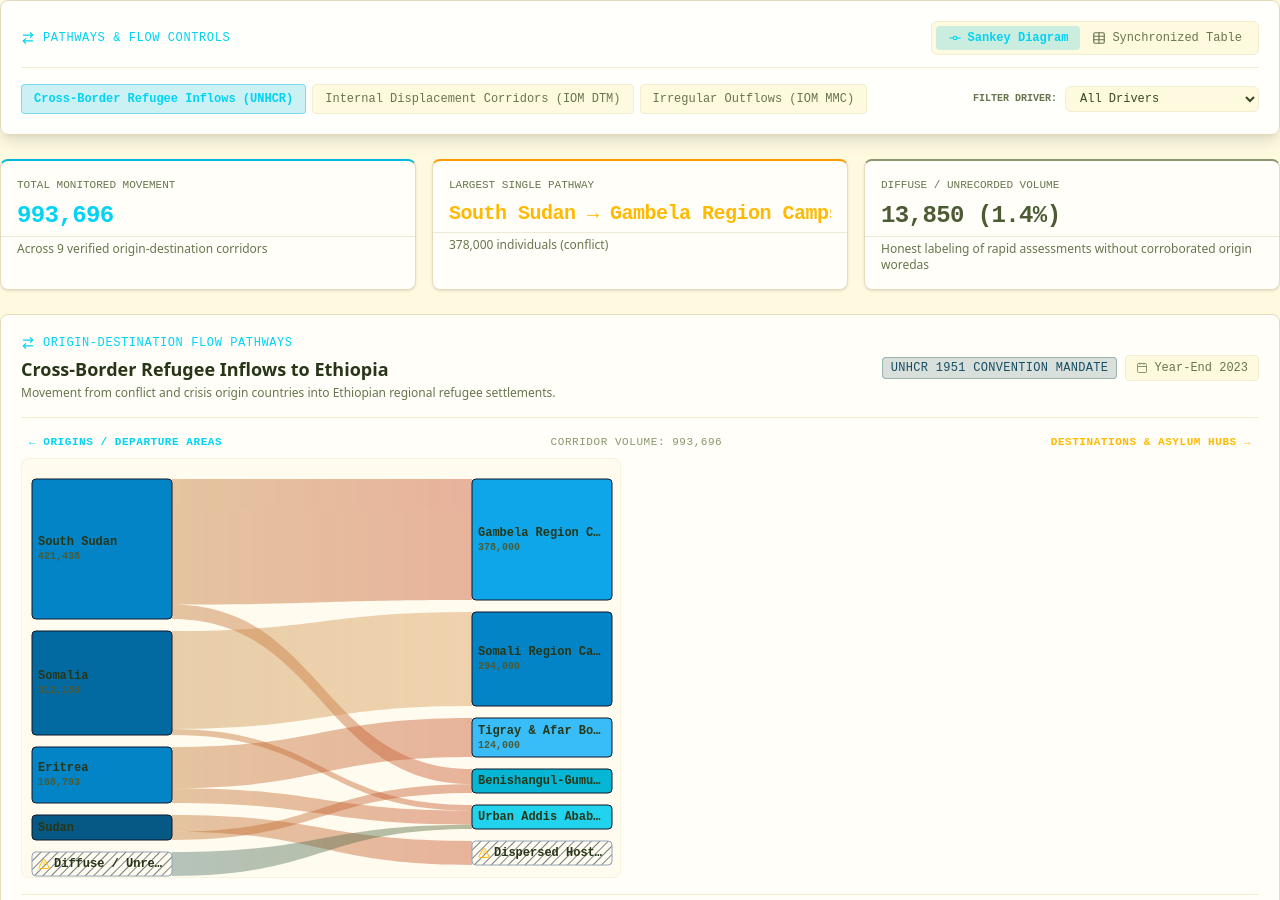
it: FlowExplorerView & Cross-Borders Integration › interactively switches datasets and toggles between Sankey and Table views
The width and height of the screenshot is (1280, 900).
Check: the heading "Cross-Border Refugee Inflows to Ethiopia" is shown, box top-left (21, 356), bottom-right (388, 380)
Check: the text "Across 9 verified origin-destination corridors" is shown, box top-left (17, 240), bottom-right (268, 256)
Click the button "Internal Displacement Corridors (IOM DTM)": point(473, 99) top-left (312, 84), bottom-right (634, 114)
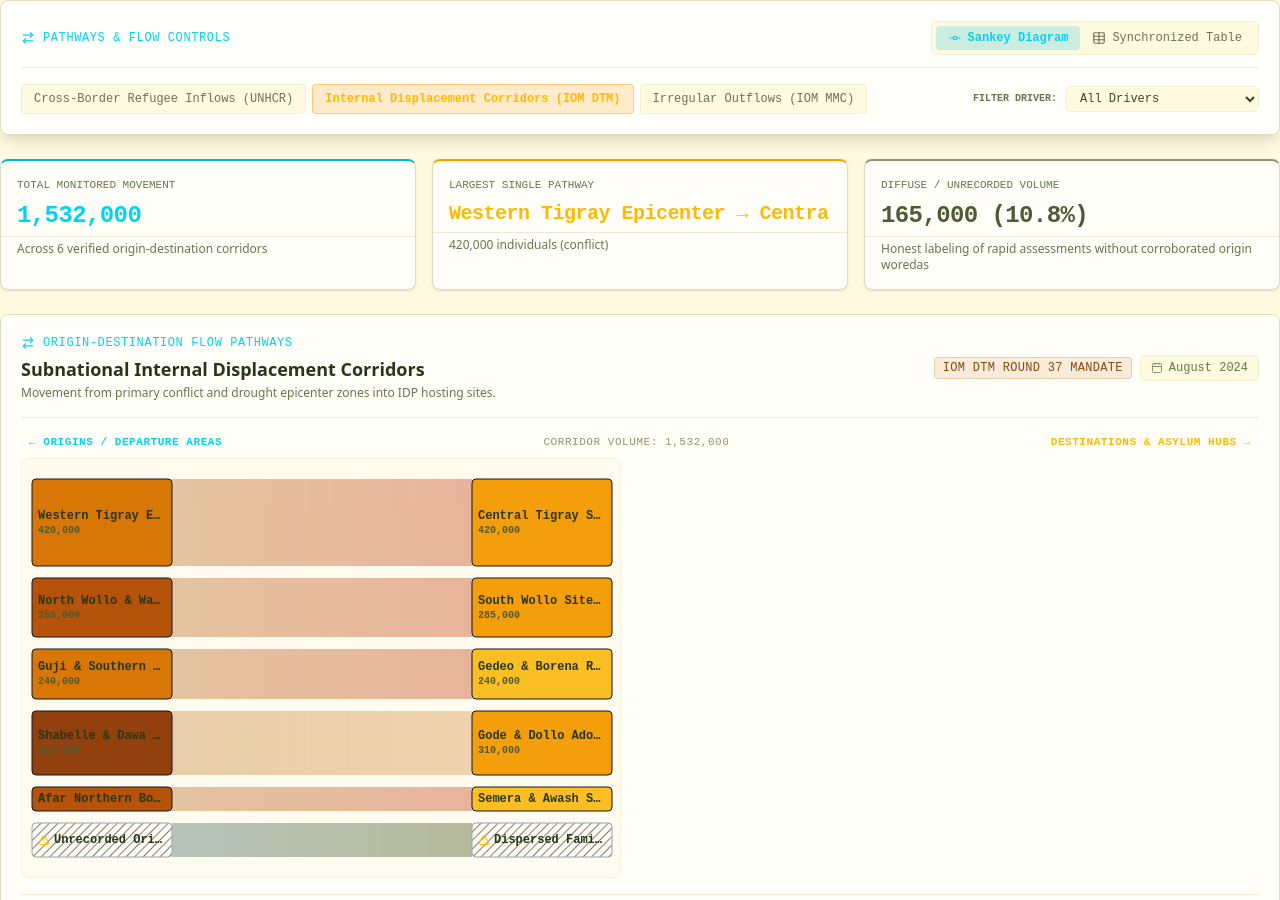
Check: the heading "Subnational Internal Displacement Corridors" is shown, box top-left (21, 354), bottom-right (496, 382)
Check: the text "IOM DTM Round 37 Mandate" is shown, box top-left (934, 356), bottom-right (1132, 378)
Click the button "Irregular Outflows (IOM MMC)": point(753, 99) top-left (640, 84), bottom-right (867, 114)
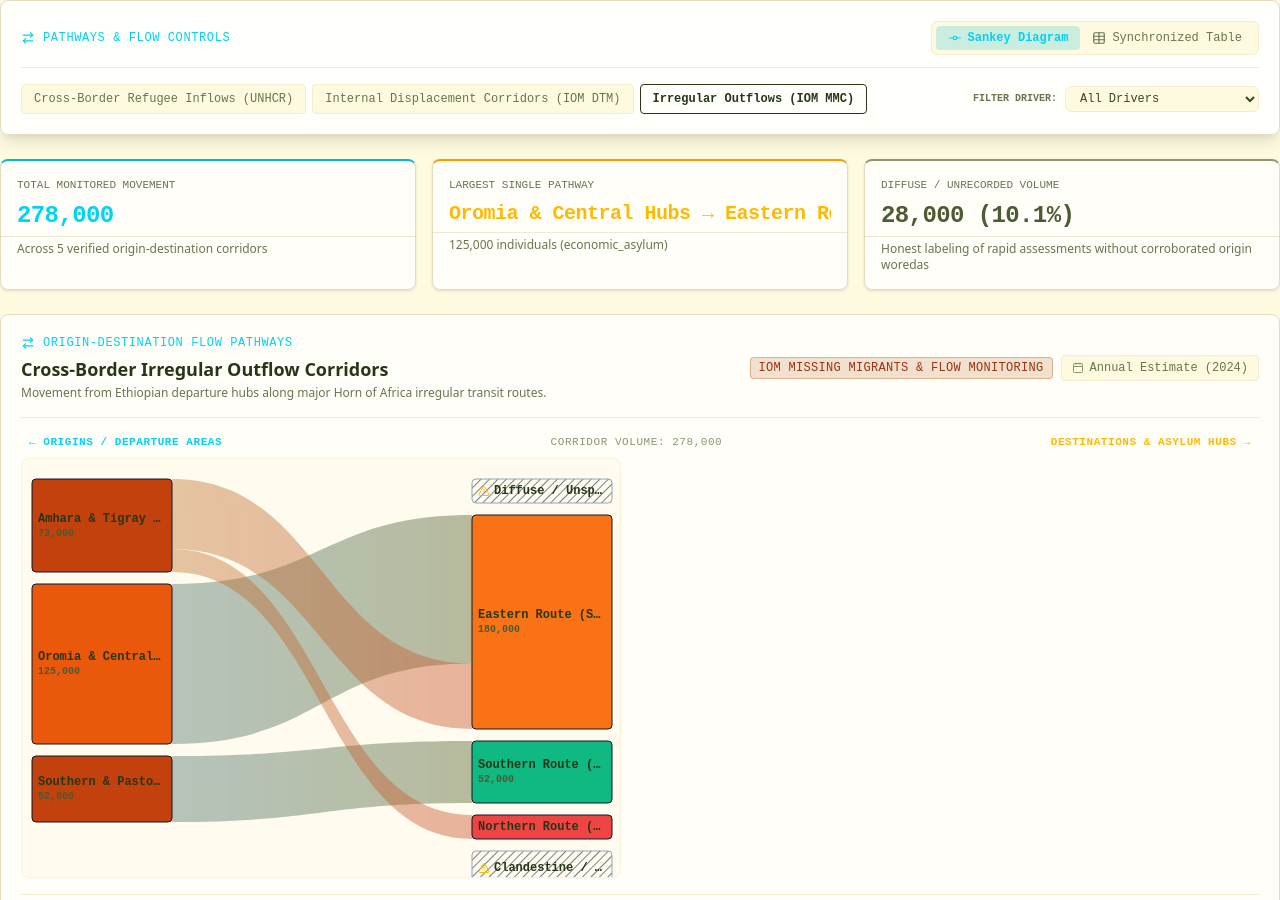
Check: the heading "Cross-Border Irregular Outflow Corridors" is shown, box top-left (21, 356), bottom-right (388, 380)
Check: the text "IOM Missing Migrants & Flow Monitoring" is shown, box top-left (750, 356), bottom-right (1052, 378)
Note: Switch view mode to Synchronized Table
Click the button "Synchronized Table": point(1167, 38) top-left (1080, 26), bottom-right (1254, 50)
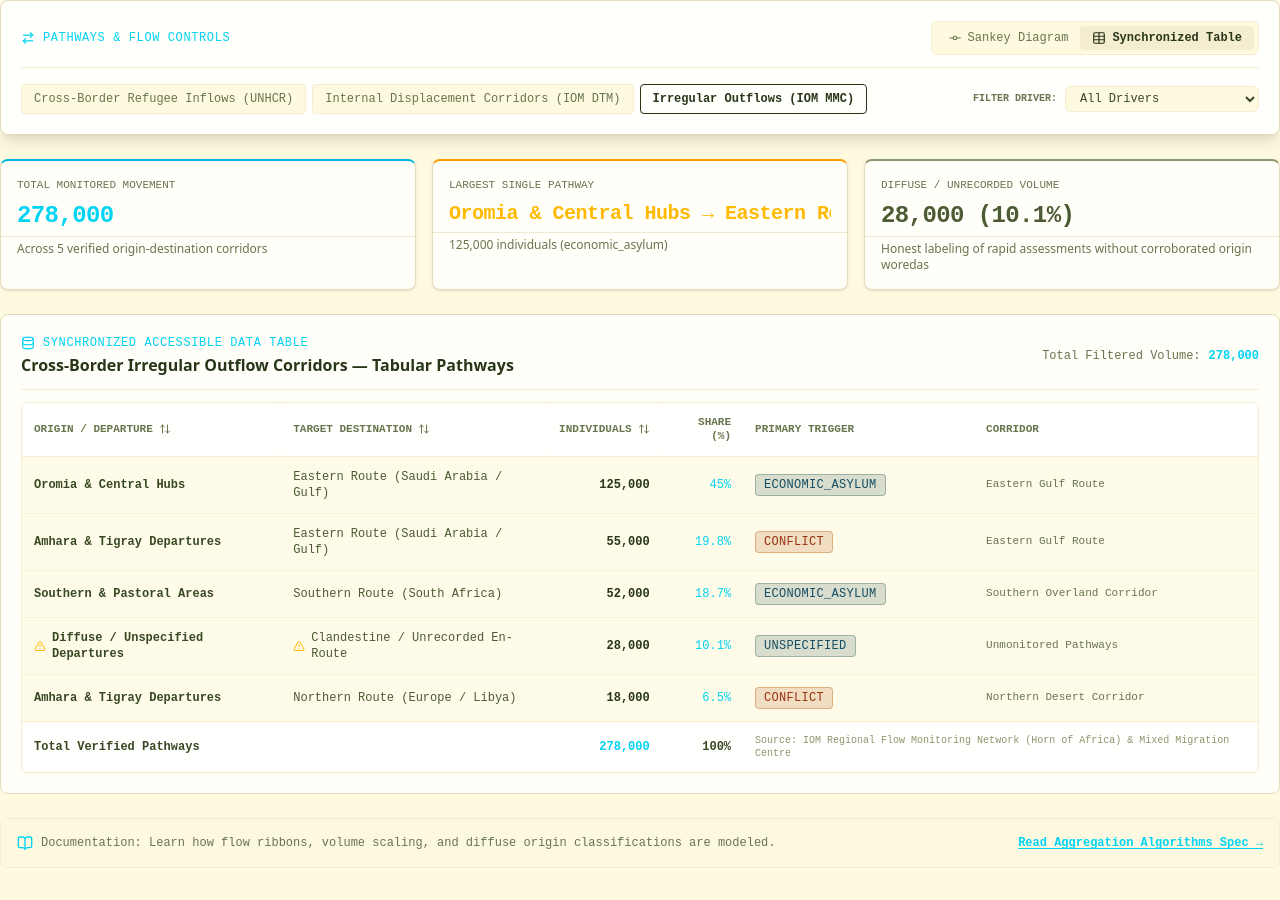
Check: the heading "Cross-Border Irregular Outflow Corridors — Tabular Pathways" is shown, box top-left (21, 352), bottom-right (514, 376)
Check: the text "Total Verified Pathways" is shown, box top-left (22, 721), bottom-right (547, 772)
Note: Switch view mode back to Sankey
Click the button "Sankey Diagram": point(1008, 38) top-left (936, 26), bottom-right (1080, 50)
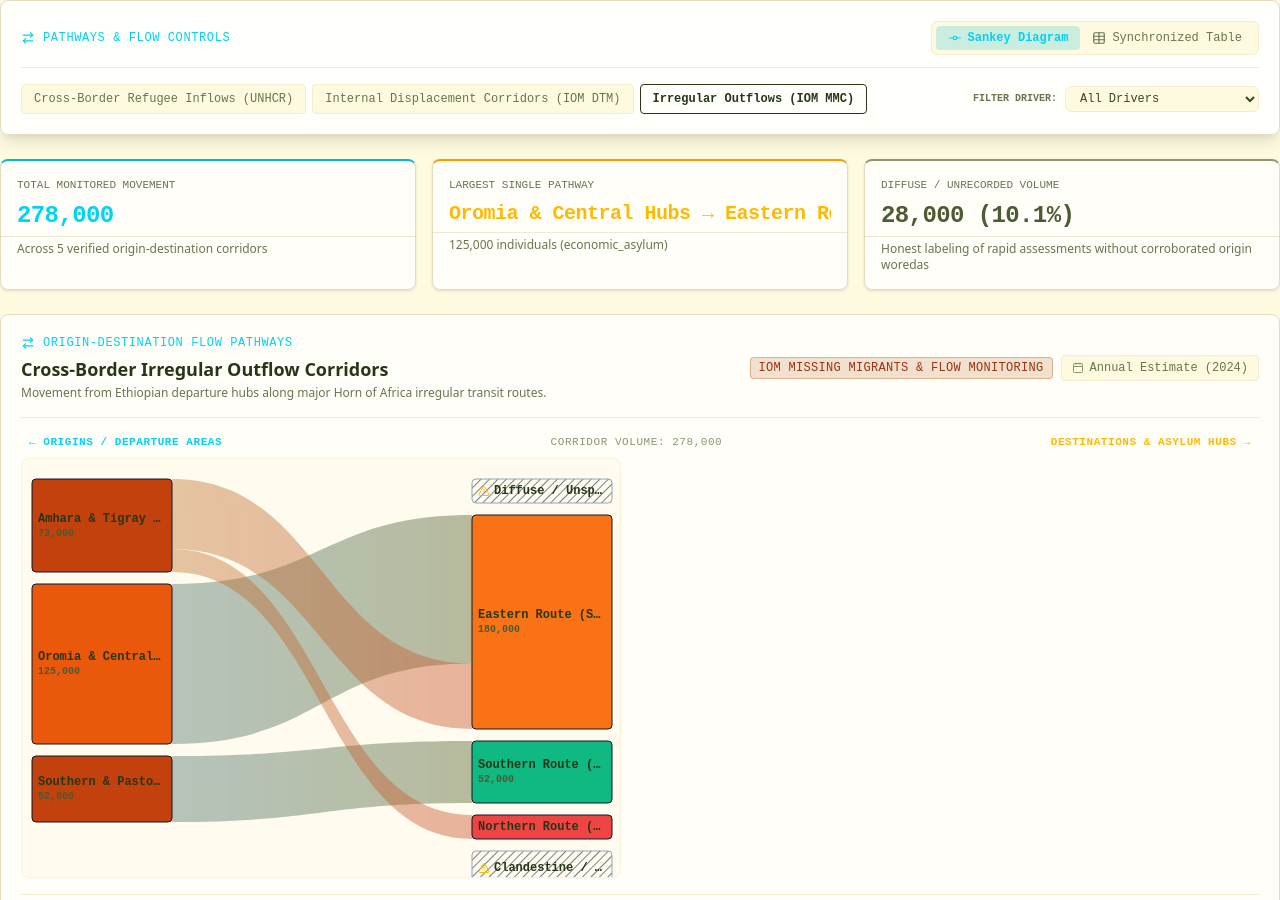
Check: the heading "Cross-Border Irregular Outflow Corridors" is shown, box top-left (21, 356), bottom-right (388, 380)
